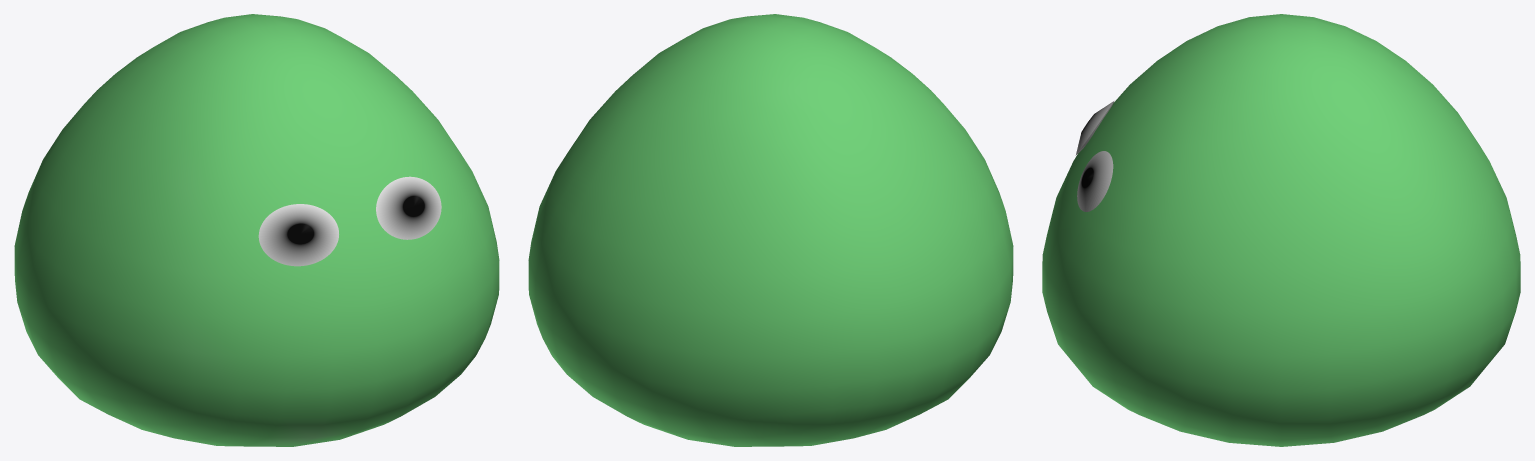
The model's file is blob.gltf.
3 views of the same model, side by side, from view 1: azimuth 30°, elevation 25°; view 2: azimuth 150°, elevation 25°; view 3: azimuth 270°, elevation 25° (orthographic).
Visible parts, largest first — view 1: Cube; view 2: Cube; view 3: Cube.
Boxes of the visible parts, bbox=[...] form: Cube: bbox=[14, 14, 499, 446]; Cube: bbox=[528, 14, 1013, 446]; Cube: bbox=[1042, 14, 1520, 446].
Size of the model in its own units: 1.76 by 1.53 by 1.76.
